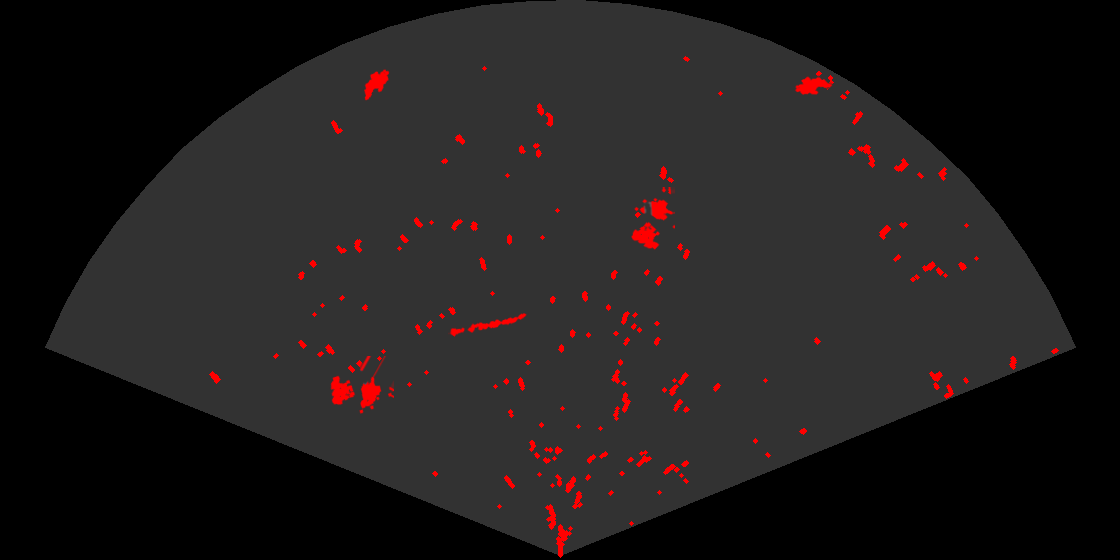AUV: (363, 68, 391, 102), (793, 75, 834, 97)
cage: (329, 356, 394, 415), (630, 187, 675, 251)
chain: (448, 312, 529, 338)
